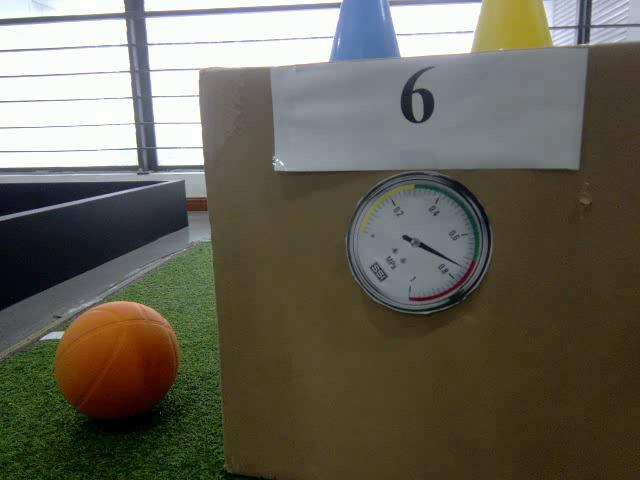6: (396, 65, 438, 124)
Dashboard: (347, 169, 494, 319)
blue_barrel: (328, 0, 403, 62)
orange_ball: (55, 301, 182, 420)
ssi: (367, 259, 390, 283)
yellow_barrel: (468, 0, 556, 55)
